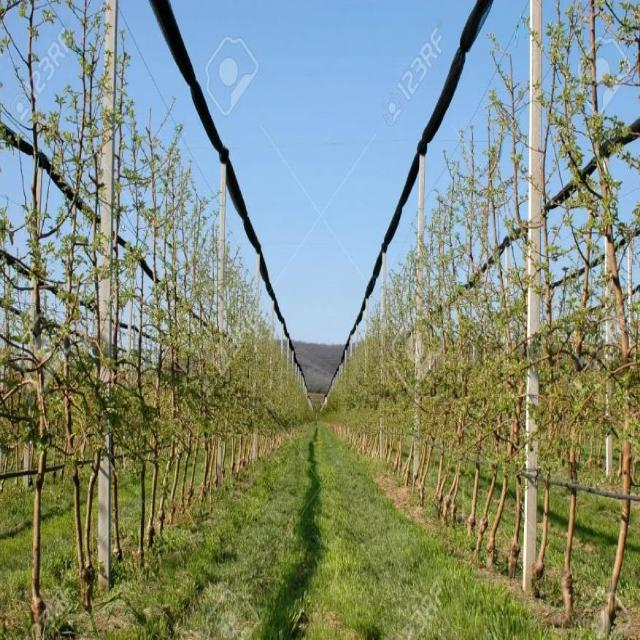row: (48, 417, 585, 640)
